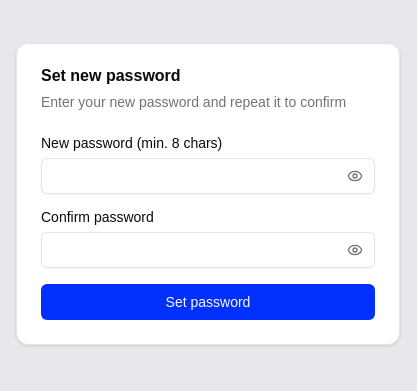
Scenario: ResetPasswordPage › should offer a new link for a link the API no longer accepts
Type "secret123" into the password field labelled "New password (min. 8 chars)" at (208, 176), box [41, 158, 375, 194]
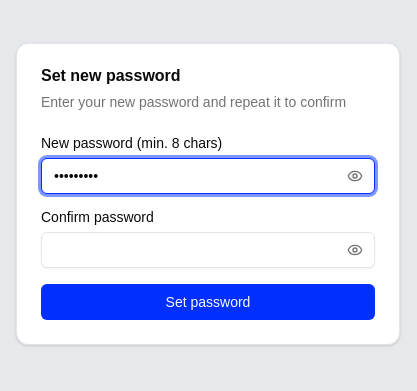
Type "secret123" into the password field labelled "Confirm password" at (208, 250), box [41, 232, 375, 268]
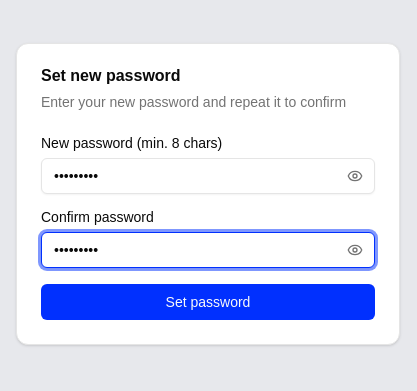
Click the button "Set password" at (208, 302), box [41, 284, 375, 320]
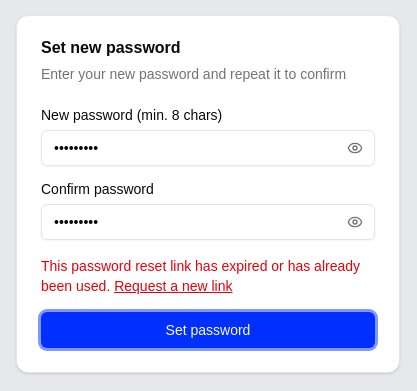
Result: the message shows "This password reset link has expired or has already been used." at [41, 258, 360, 294]
